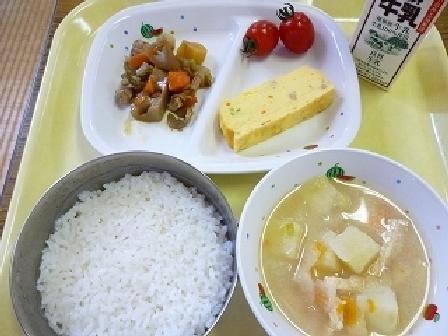Bread: (212, 59, 337, 152)
Cherry tomatoes: (239, 5, 320, 61)
Milk: (347, 0, 445, 76)
Rice: (4, 149, 244, 335)
Soups: (247, 159, 438, 335)
cooked food meat with vegetables: (104, 24, 214, 124)
